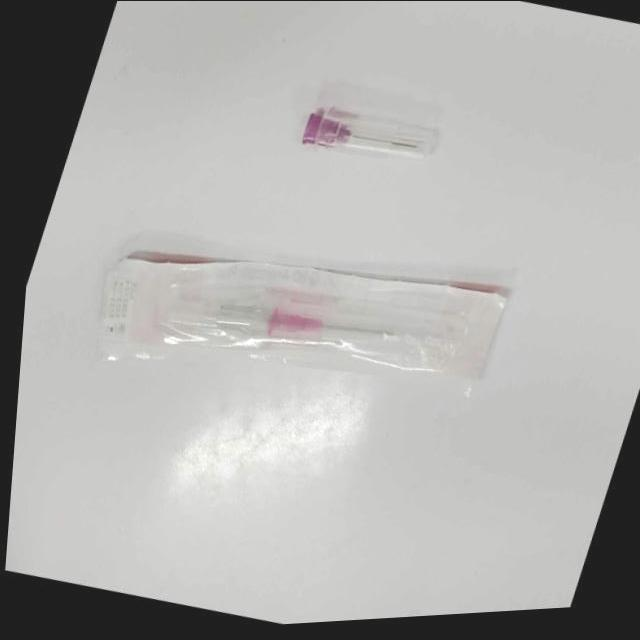General: (3, 2, 638, 627)
Infectious: (98, 255, 506, 380)
Sharps: (300, 106, 437, 159)
